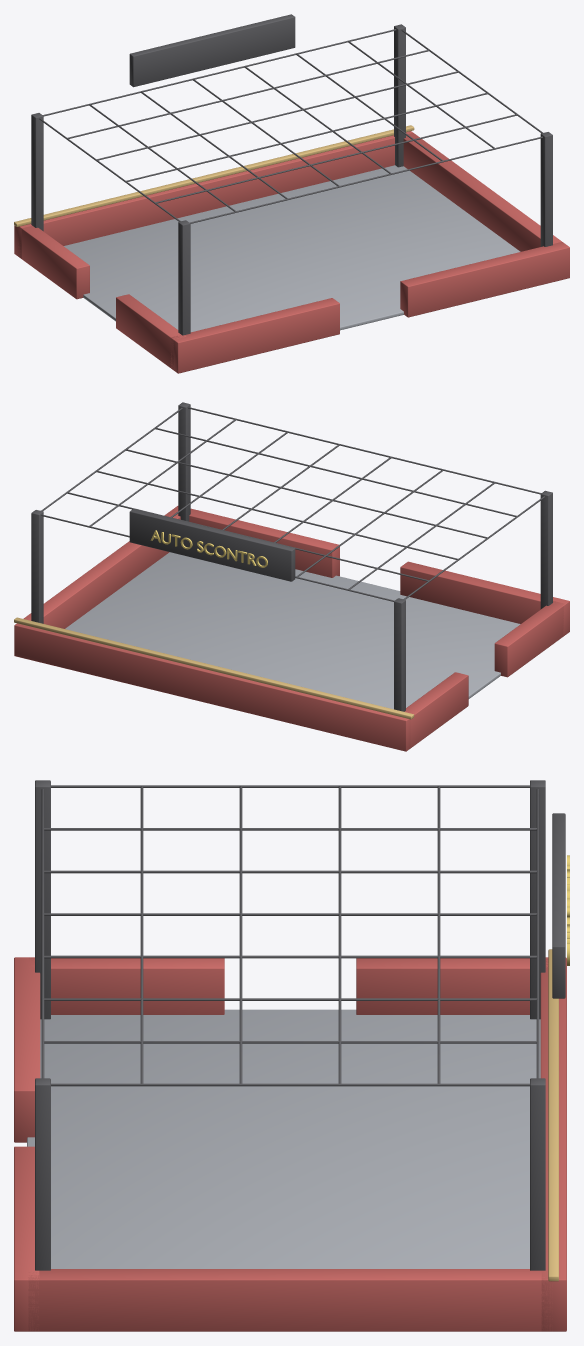
Rendered from autoscontro.glb.
The picture shows the model from 3 angles, top to bottom: view 1: azimuth 30°, elevation 25°; view 2: azimuth 150°, elevation 25°; view 3: azimuth 270°, elevation 25°; orthographic projection. The views are drawn at different scales.
Visible parts, largest first — view 1: pav_pista, muro_n, muro_s_1, muro_s_-1, insegna_fondo, muro_e, muro_o_-1, muro_o_1, bordo_top, palo_1_-1, palo_-1_-1, palo_-1_1 (+7 smaller); view 2: pav_pista, muro_n, insegna_fondo, muro_s_-1, muro_e, muro_s_1, muro_o_1, bordo_top, muro_o_-1, palo_-1_1, palo_1_-1, palo_1_1 (+7 smaller); view 3: pav_pista, muro_e, muro_o_1, muro_o_-1, muro_n, muro_s_-1, muro_s_1, bordo_top, palo_1_-1, palo_1_1, palo_-1_-1, palo_-1_1 (+15 smaller).
Part boxes in pixels (bbox=[...]): pav_pista: bbox=[64, 165, 520, 332]; muro_n: bbox=[14, 131, 412, 258]; muro_s_1: bbox=[400, 242, 569, 317]; muro_s_-1: bbox=[170, 298, 339, 373]; insegna_fondo: bbox=[129, 14, 295, 87]; muro_e: bbox=[403, 131, 561, 251]; muro_o_-1: bbox=[18, 225, 89, 299]; muro_o_1: bbox=[116, 294, 186, 370]; bordo_top: bbox=[14, 125, 414, 226]; palo_1_-1: bbox=[394, 24, 405, 167]; palo_-1_-1: bbox=[31, 113, 43, 231]; palo_-1_1: bbox=[178, 220, 190, 335]; pav_pista: bbox=[65, 552, 520, 709]; muro_n: bbox=[14, 623, 410, 751]; insegna_fondo: bbox=[129, 509, 295, 581]; muro_s_-1: bbox=[400, 561, 569, 636]; muro_e: bbox=[23, 508, 180, 628]; muro_s_1: bbox=[173, 506, 339, 577]; muro_o_1: bbox=[494, 601, 564, 677]; bordo_top: bbox=[14, 617, 414, 719]; muro_o_-1: bbox=[404, 672, 468, 748]; palo_-1_1: bbox=[540, 490, 552, 609]; palo_1_-1: bbox=[31, 510, 43, 623]; palo_1_1: bbox=[178, 402, 190, 521]; pav_pista: bbox=[27, 1009, 540, 1268]; muro_e: bbox=[28, 1269, 552, 1331]; muro_o_1: bbox=[29, 957, 224, 1014]; muro_o_-1: bbox=[356, 957, 548, 1014]; muro_n: bbox=[540, 957, 566, 1331]; muro_s_-1: bbox=[14, 957, 40, 1142]; muro_s_1: bbox=[14, 1146, 39, 1331]; bordo_top: bbox=[548, 949, 558, 1281]; palo_1_-1: bbox=[530, 1078, 545, 1270]; palo_1_1: bbox=[35, 1078, 50, 1270]; palo_-1_-1: bbox=[530, 780, 545, 1019]; palo_-1_1: bbox=[35, 780, 50, 1019].
Size of the model in its own units: 14.7 by 6.1 by 10.56.
